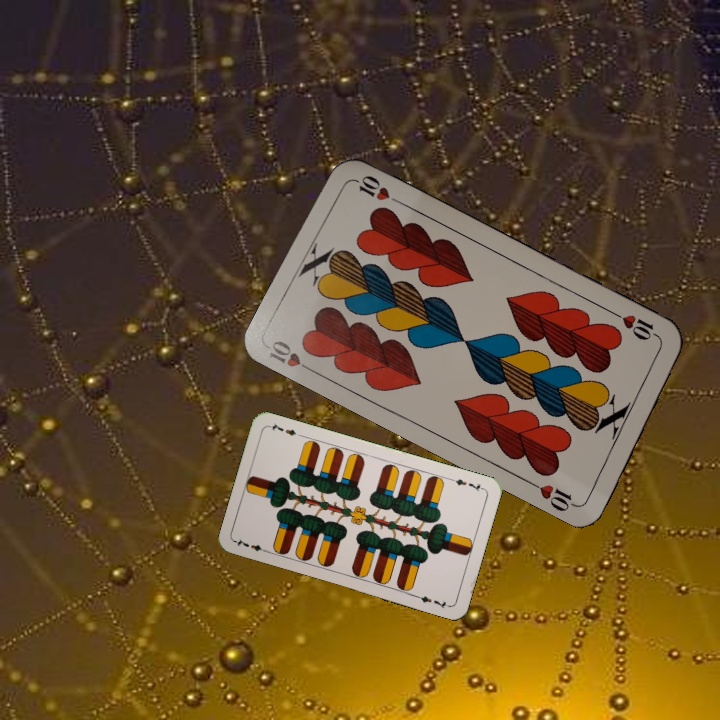E7: (232, 535, 272, 555), (446, 475, 486, 494)
H10: (264, 336, 319, 377), (609, 308, 664, 344)
